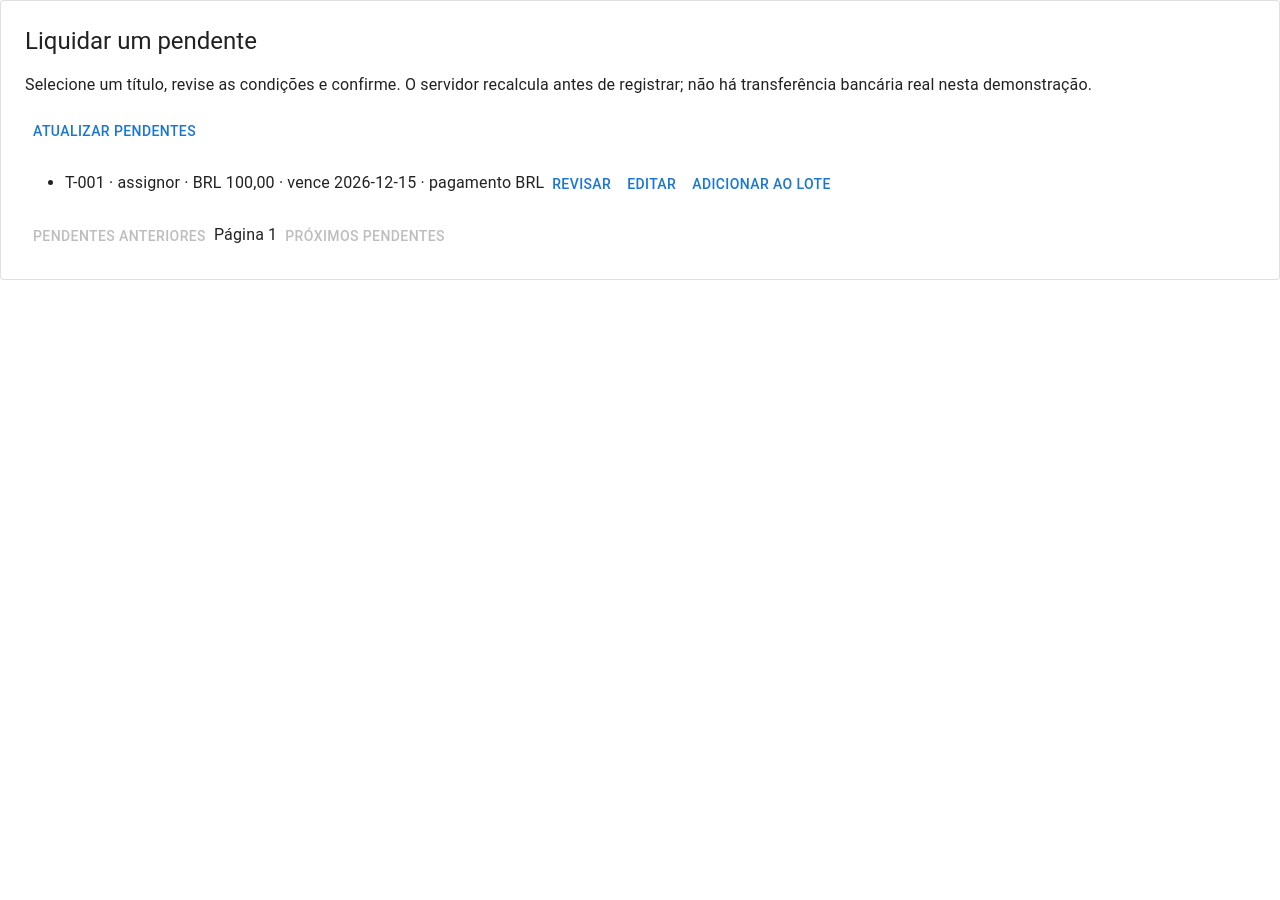
Test: opening edit clears authorized preview and requires a new review after save
Click the button with aria-label "Revisar T-001".
click(582, 184)  # box x1=544 y1=166 x2=619 y2=202
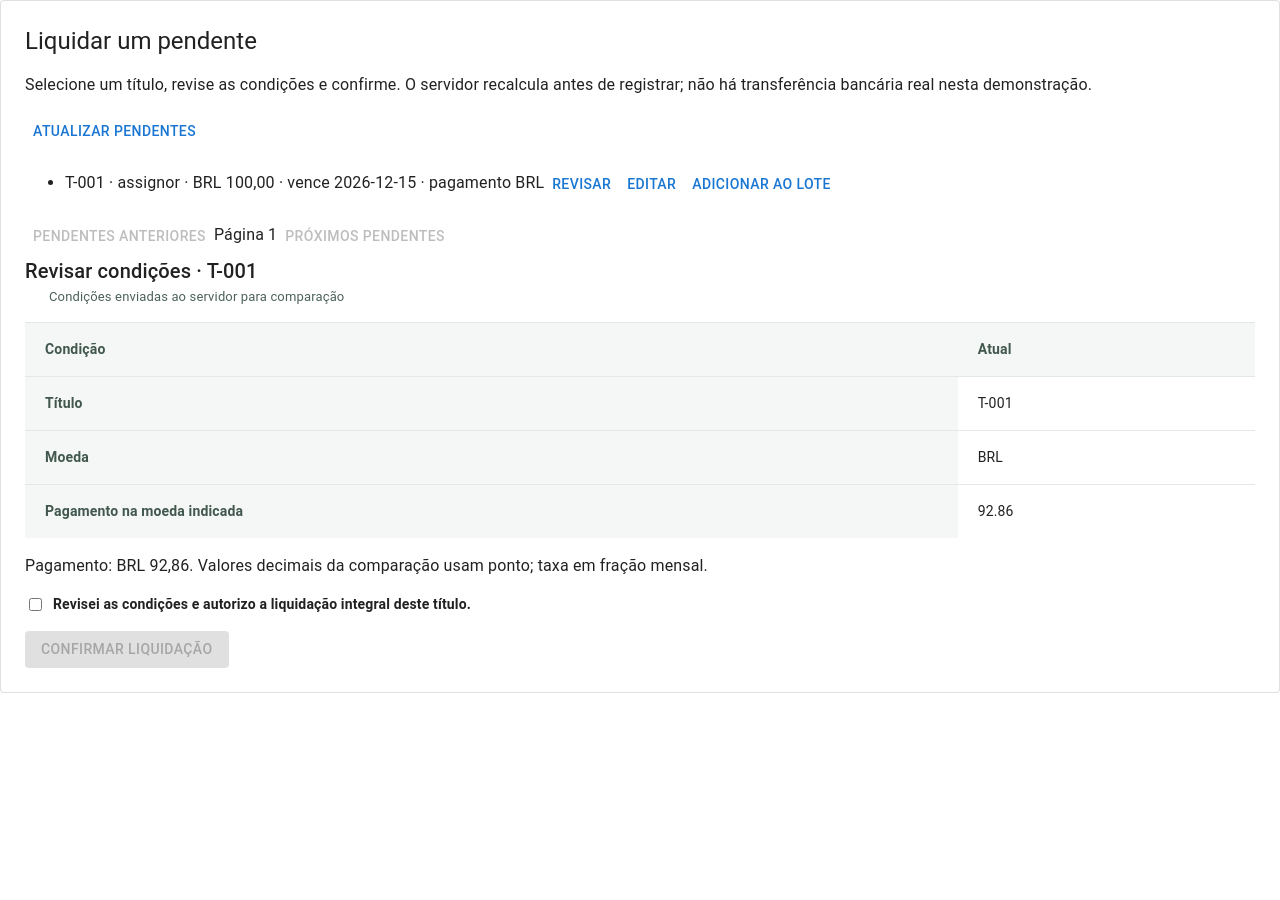
Expected: the checkbox is shown
Click the checkbox.
click(36, 604)  # box x1=29 y1=598 x2=42 y2=611
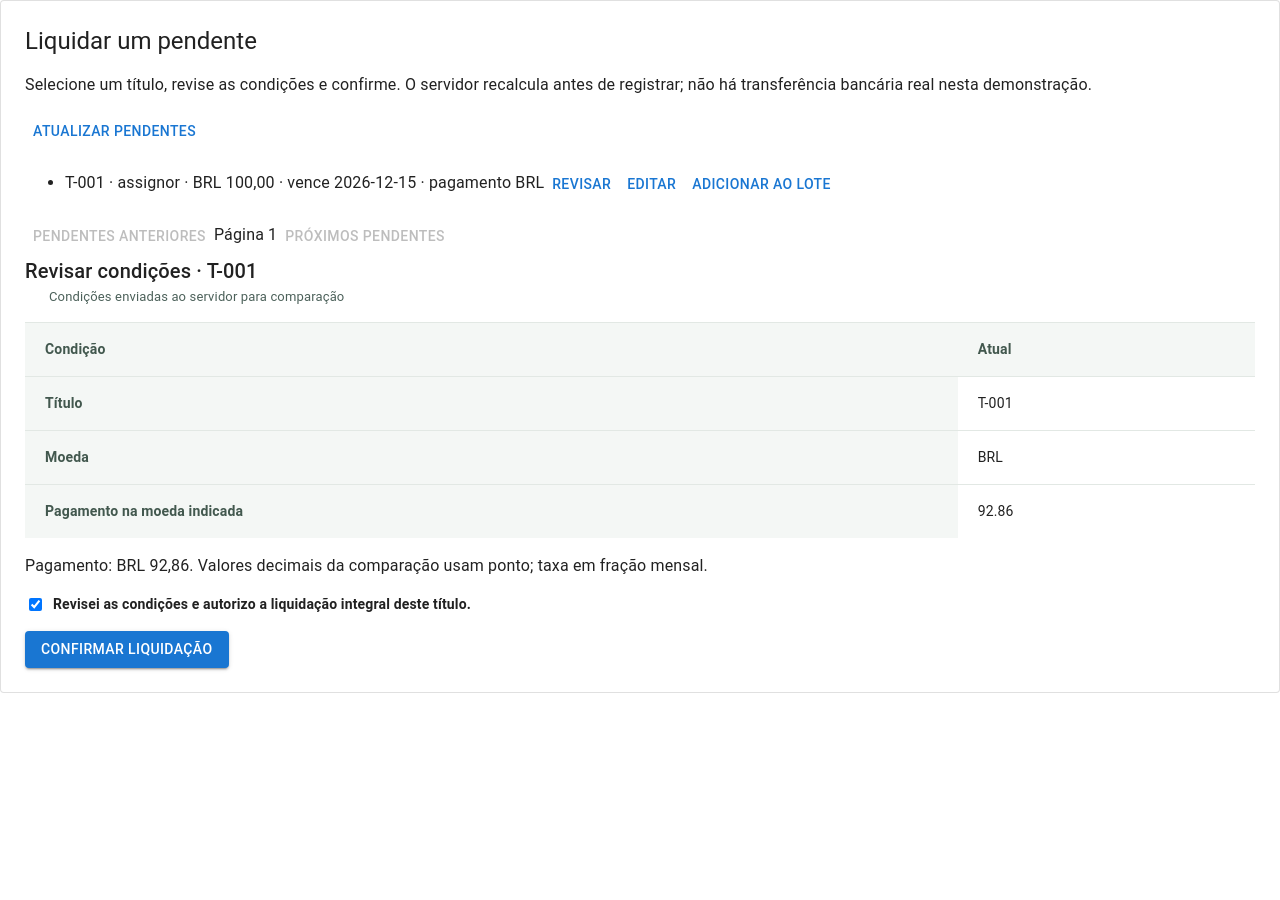
Click the button with aria-label "Editar T-001".
click(652, 184)  # box x1=619 y1=166 x2=684 y2=202
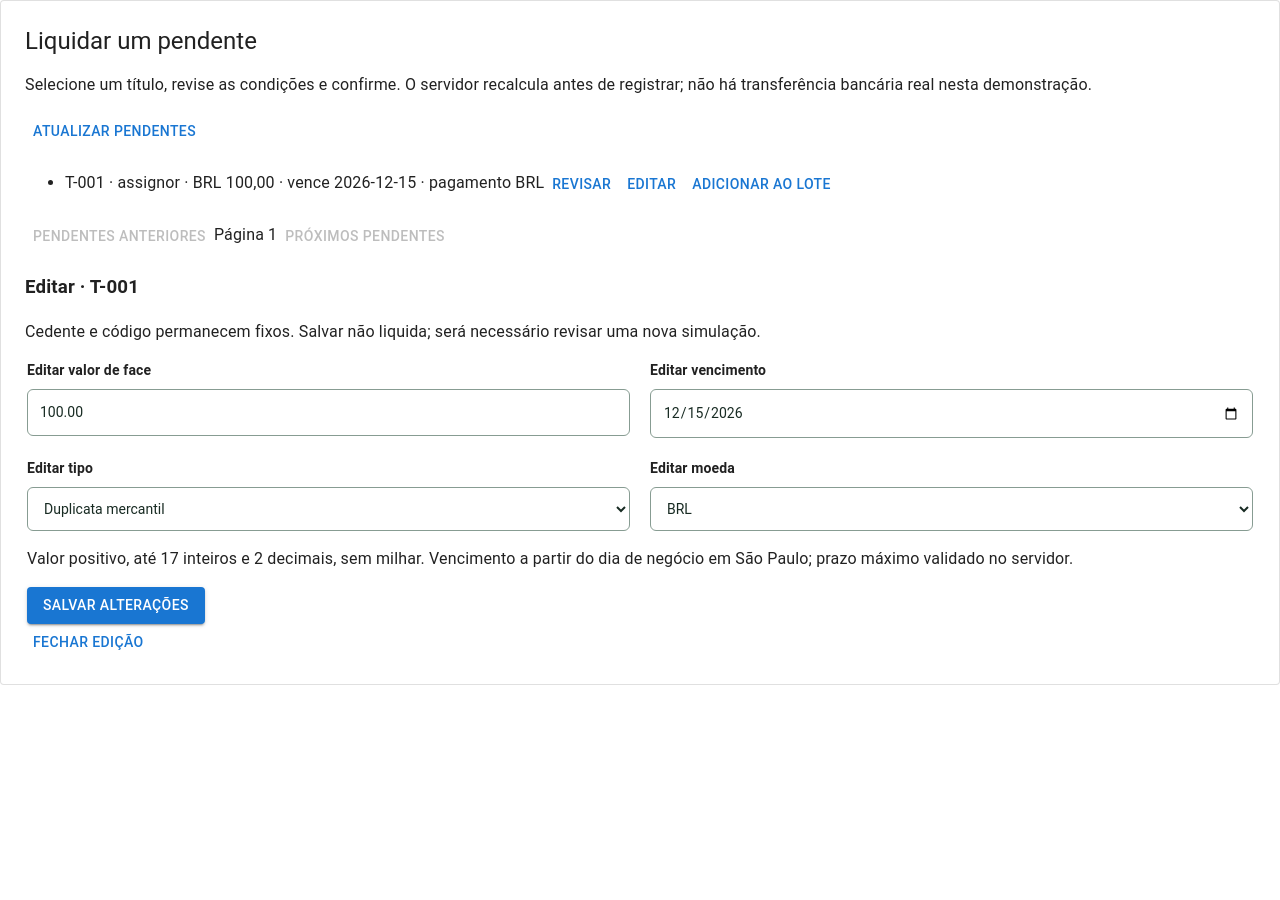
Expected: the checkbox is gone
Expected: the button "Confirmar liquidação" is gone
Click the button "Salvar alterações".
click(116, 605)  # box x1=27 y1=587 x2=205 y2=624
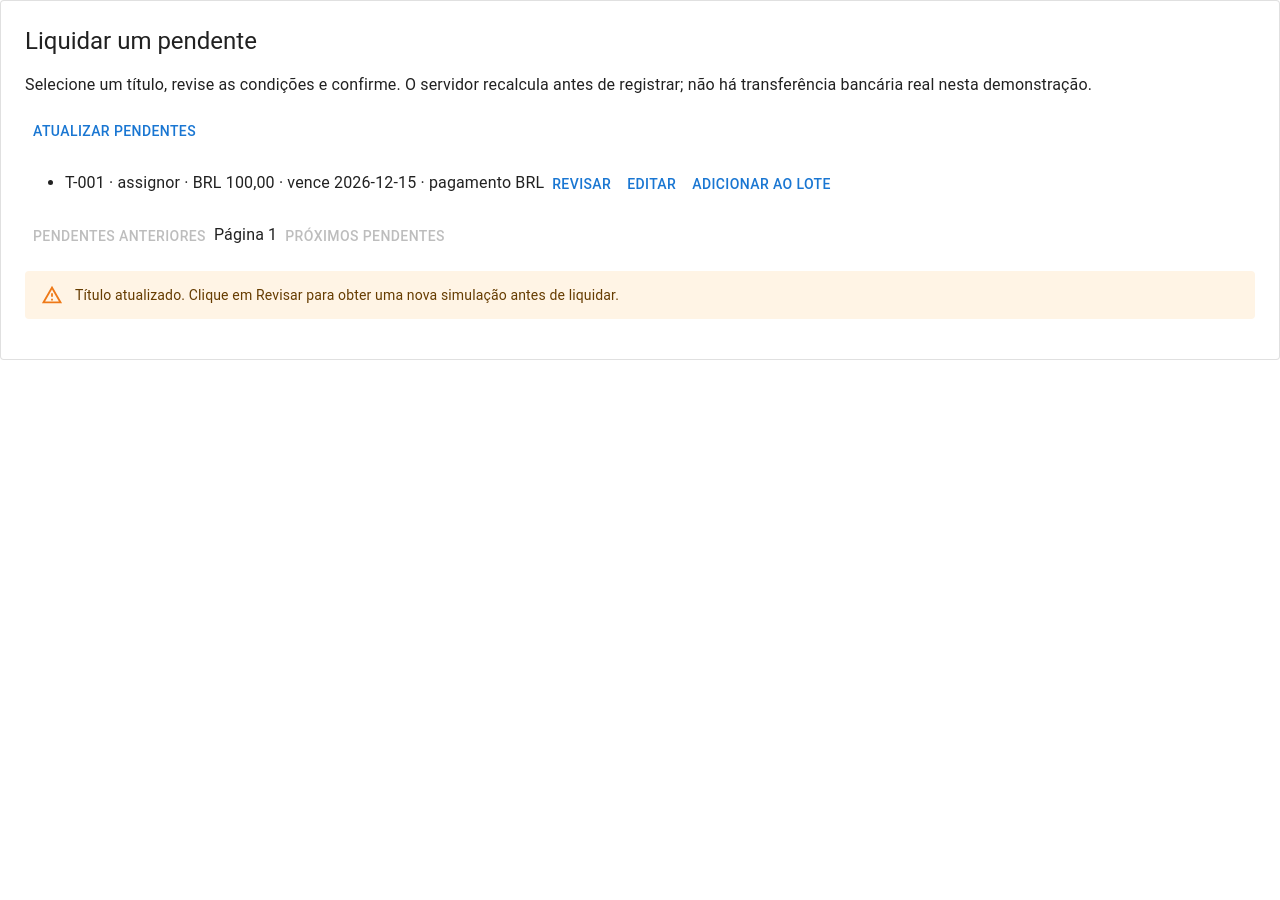
Expected: the button "Confirmar liquidação" is not shown
Expected: the text "Título atualizado. Clique em Revisar" is shown, x1=75 y1=286 x2=619 y2=302
